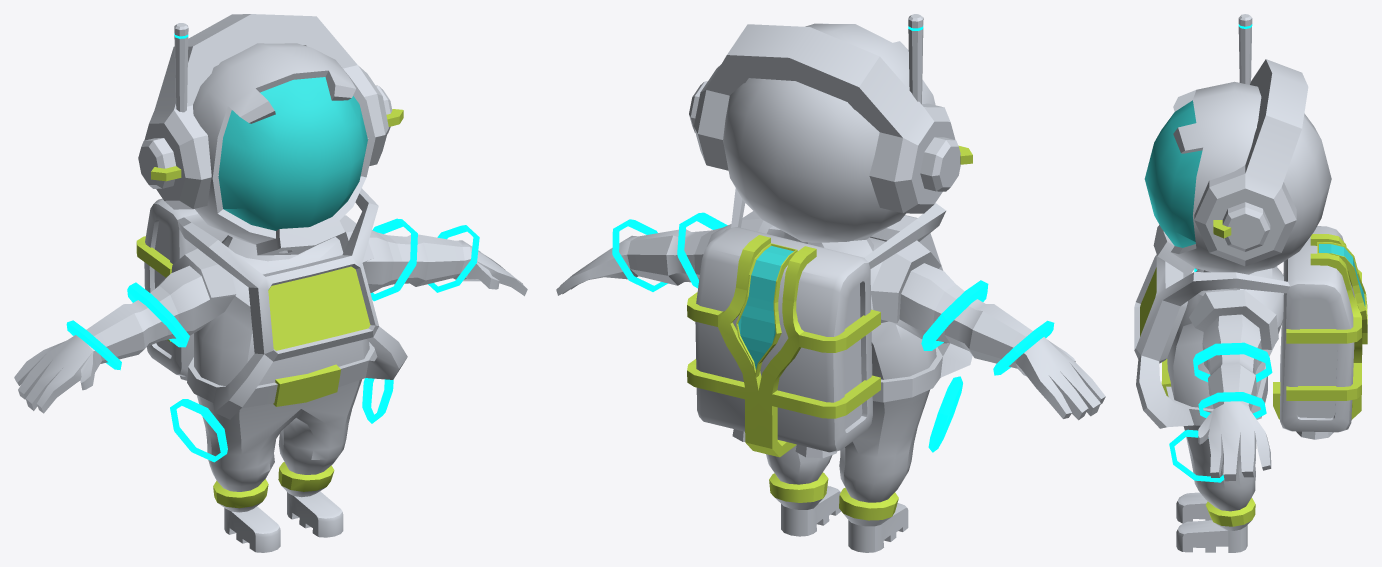
The model's file is Player.glb.
3 views of the same model, side by side, from view 1: azimuth 30°, elevation 25°; view 2: azimuth 150°, elevation 25°; view 3: azimuth 270°, elevation 25° (orthographic). The views are drawn at different scales.
Visible parts, largest first — view 1: Astro; view 2: Astro; view 3: Astro.
Boxes of the visible parts, bbox=[...] form: Astro: bbox=[14, 14, 527, 552]; Astro: bbox=[556, 14, 1105, 552]; Astro: bbox=[1134, 14, 1367, 552].
Size of the model in its own units: 1.7 by 1.69 by 0.7495.
